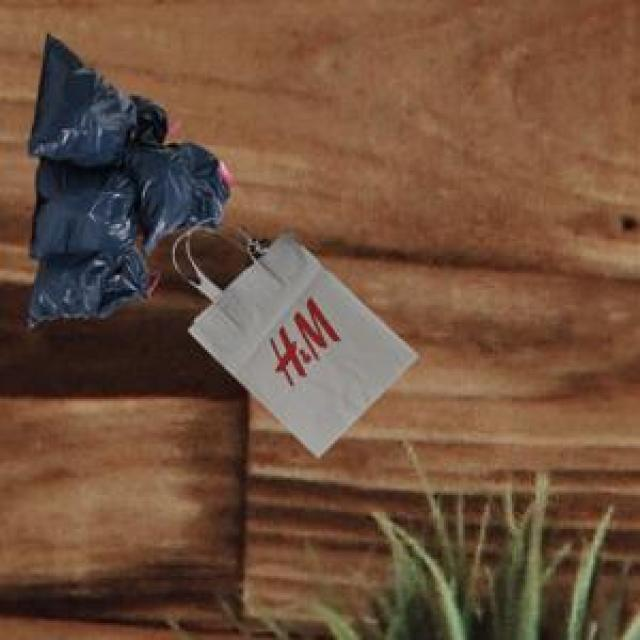miscellaneous trash: (24, 30, 228, 324)
paper: (186, 226, 414, 452)
